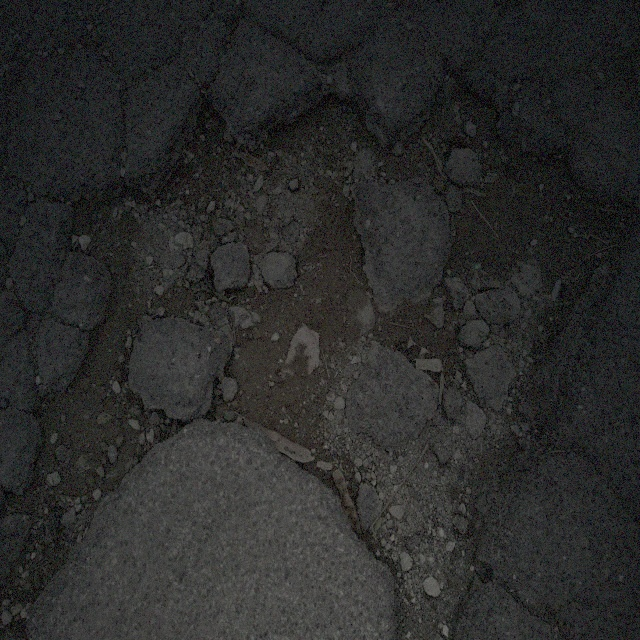pothole: (57, 59, 577, 552)
